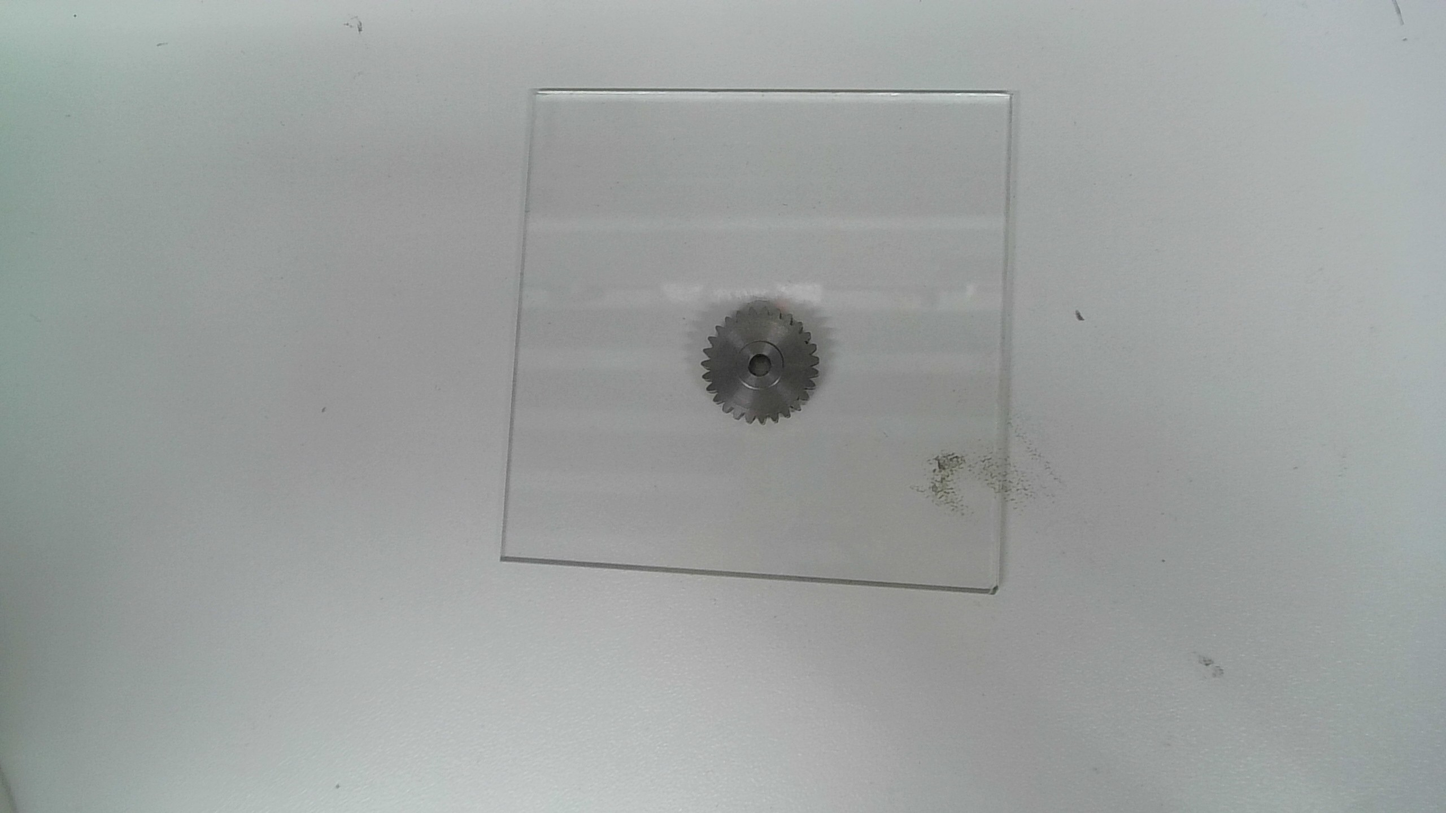gear: (699, 303, 820, 429)
